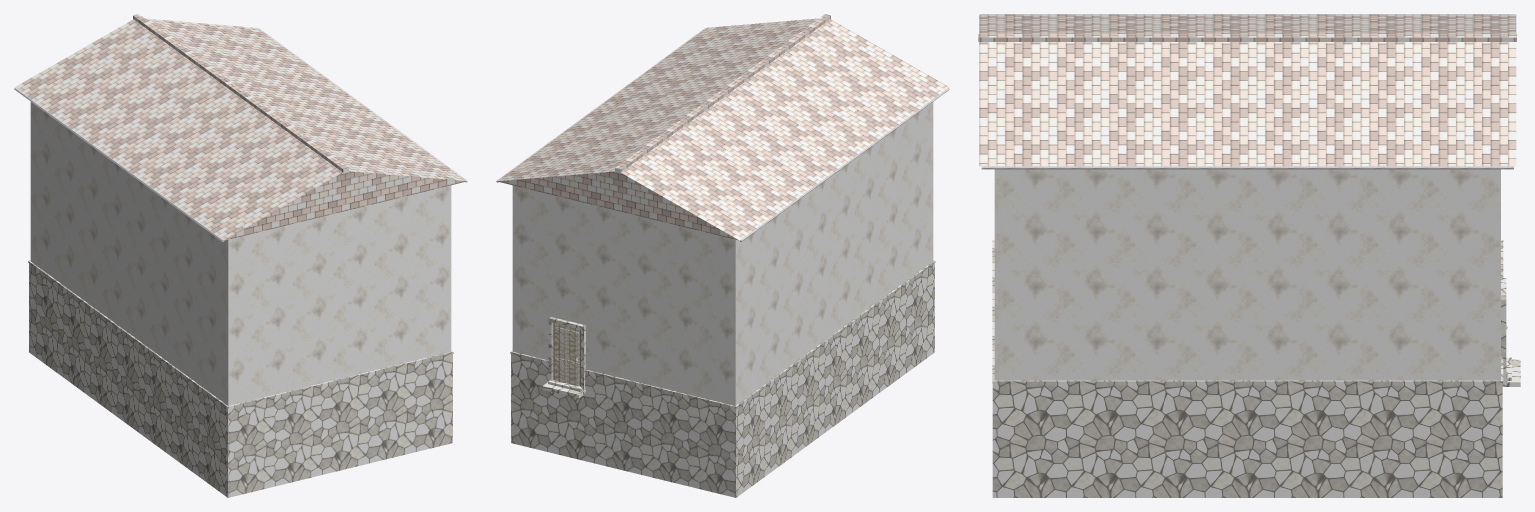
The picture shows the model from 3 angles, left to right: view 1: azimuth 30°, elevation 25°; view 2: azimuth 150°, elevation 25°; view 3: azimuth 270°, elevation 25°; orthographic projection. The views are drawn at different scales.
Parts seen in each view (by area): view 1: b1088806805; view 2: b1088806805; view 3: b1088806805.
Boxes of the visible parts, left/top/right/bottom form: b1088806805: left=14, top=14, right=467, bottom=497; b1088806805: left=496, top=14, right=949, bottom=497; b1088806805: left=978, top=14, right=1520, bottom=497.
Size of the model in its own units: 8.38 by 9.97 by 12.5.
Materials: 11 (11 with a texture image).
